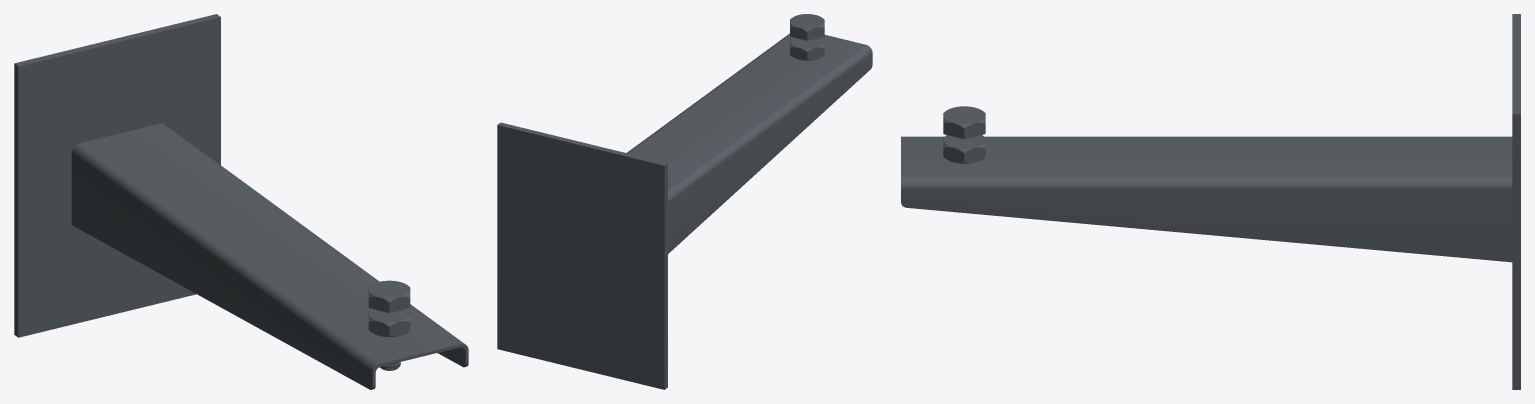
The model's file is cam_base.obj.
3 views of the same model, side by side, from view 1: azimuth 30°, elevation 25°; view 2: azimuth 150°, elevation 25°; view 3: azimuth 270°, elevation 25° (orthographic). The views are drawn at different scales.
Visible parts, largest first — view 1: Bolt.010; view 2: Bolt.010; view 3: Bolt.010.
Part boxes in pixels (box(x1,y1,x2,y2)): Bolt.010: box(14, 14, 468, 389); Bolt.010: box(497, 14, 872, 389); Bolt.010: box(901, 14, 1520, 389).
Bounding box in the file's own units: 2.44 × 3.12 × 6.36.
2 materials, 2 textured.
